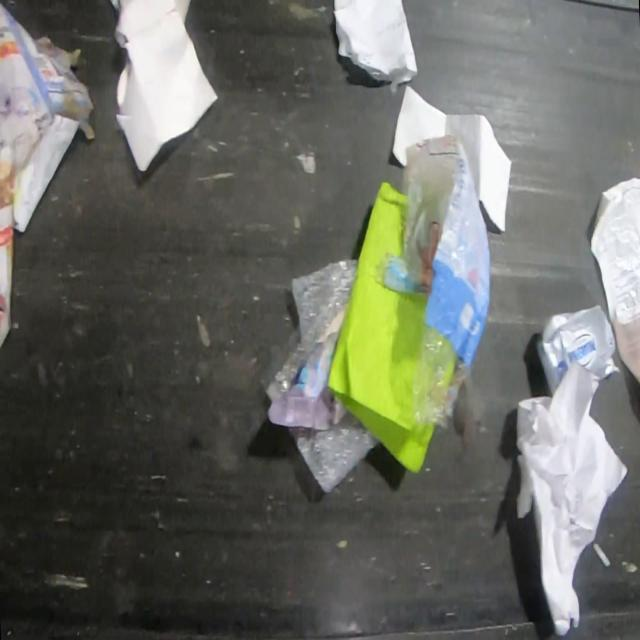cardboard: (536, 304, 622, 398)
soft_plastic: (364, 129, 494, 456), (265, 258, 380, 492)
